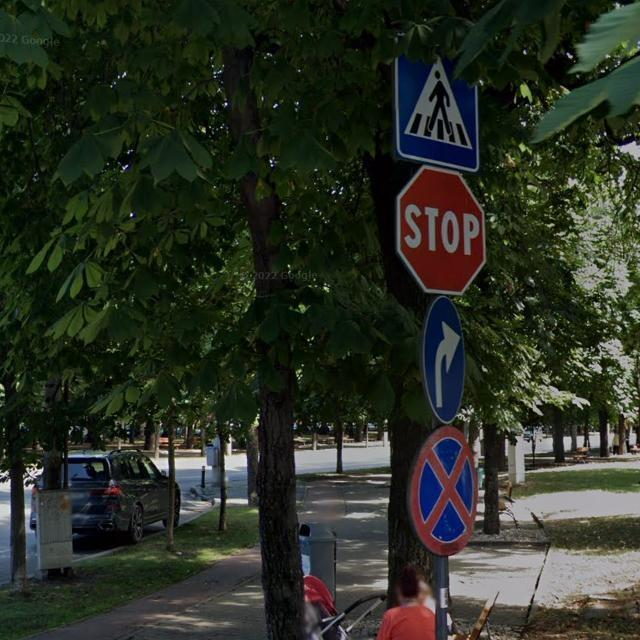forb_waiting: (410, 425, 480, 557)
info_crosswalk: (396, 50, 481, 170)
prio_stop: (396, 165, 489, 297)
